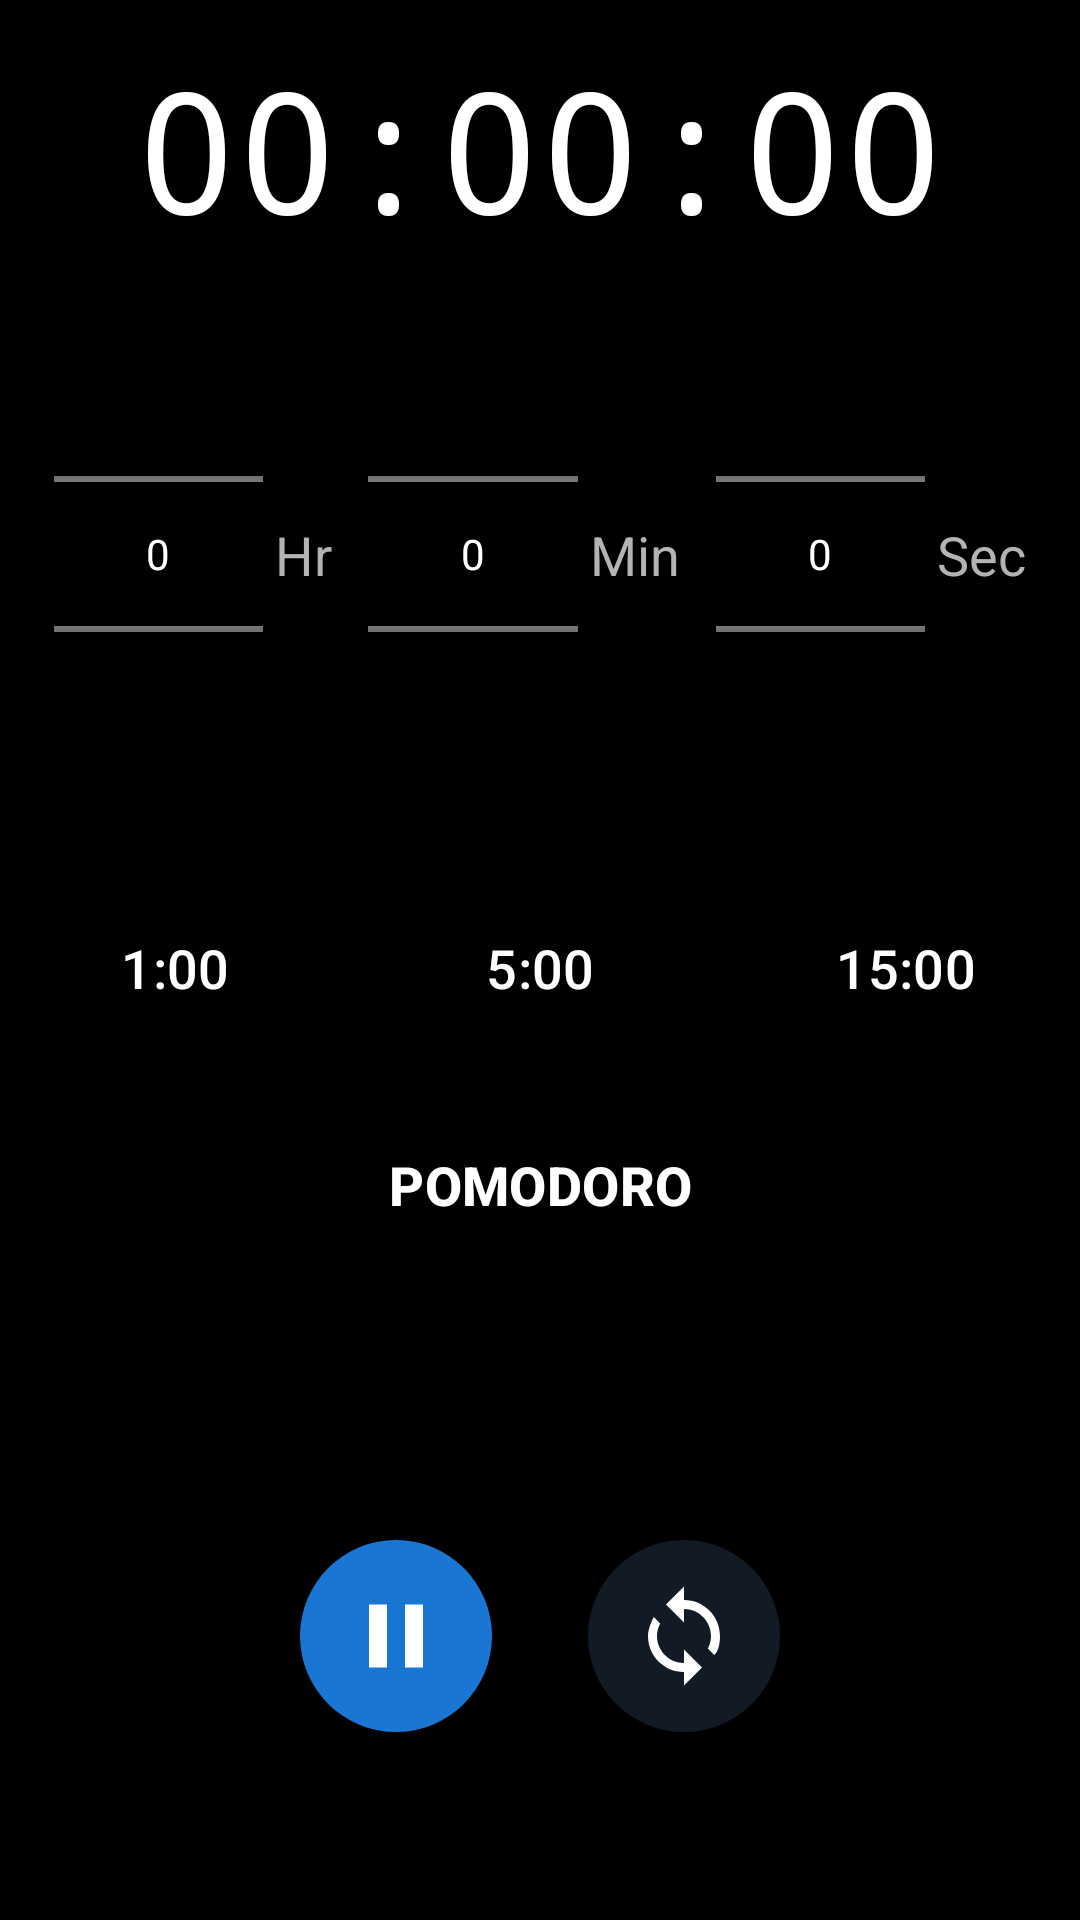

Icons on this 1080×1920 Android screen, each with the point to tap as (x,y):
custom pause: (396,1636)
custom reset: (684,1636)
